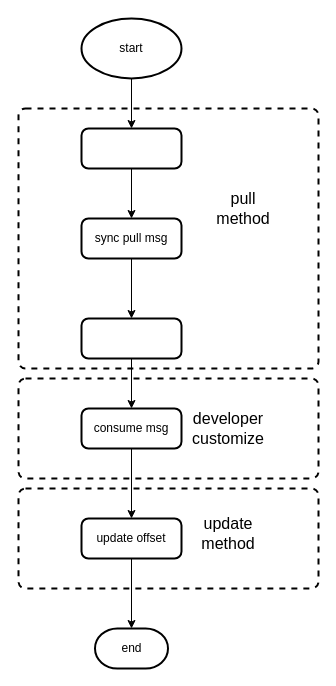
Image size: 336x686. Some labels were removed from this diagram. The shapes that lost their labels are listed below. From the top down, each one's centre as x and y in pixels, then its label:
point 131,148: check pull param
point 131,338: decode and filter
